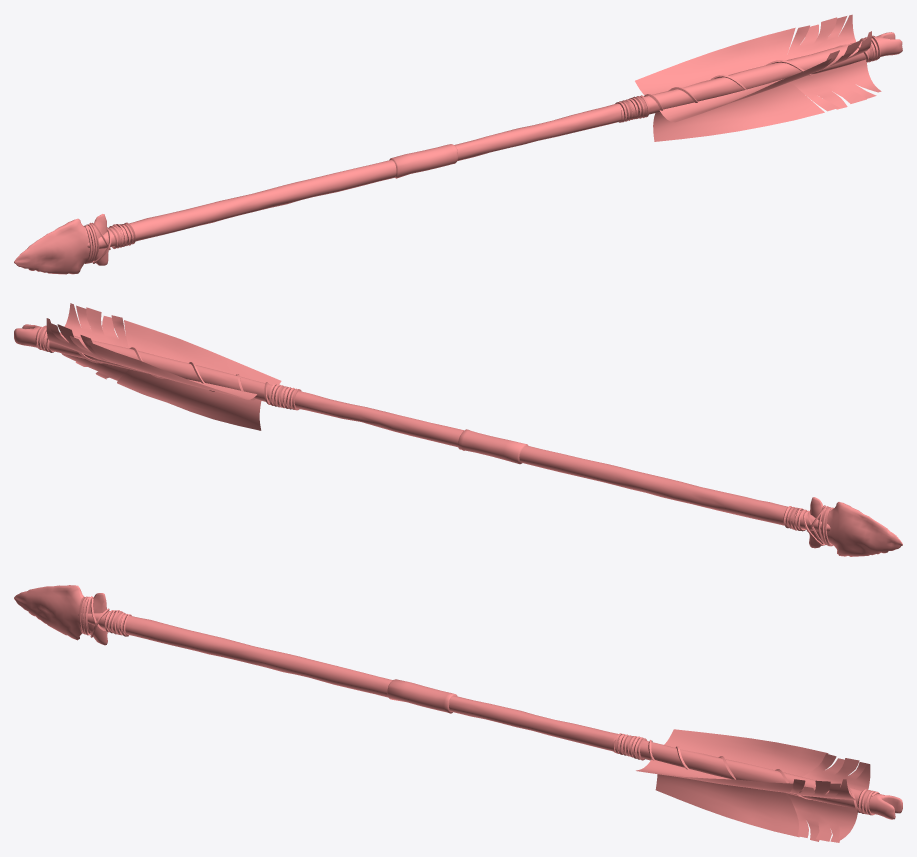
File: jian.FBX
3 views of the same model, one above another, from view 1: azimuth 30°, elevation 25°; view 2: azimuth 150°, elevation 25°; view 3: azimuth 330°, elevation 25° (orthographic).
Visible parts, largest first — view 1: jian; view 2: jian; view 3: jian.
Part boxes in pixels (x1=…): jian: x1=14, y1=14, x2=902, y2=274; jian: x1=14, y1=303, x2=902, y2=556; jian: x1=14, y1=585, x2=902, y2=842.
Size of the model in its own units: 103 by 8.17 by 8.58.
